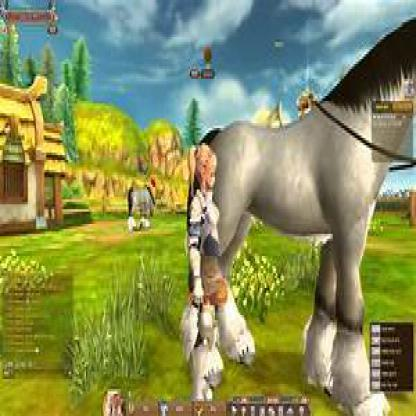horse: (187, 17, 415, 414)
